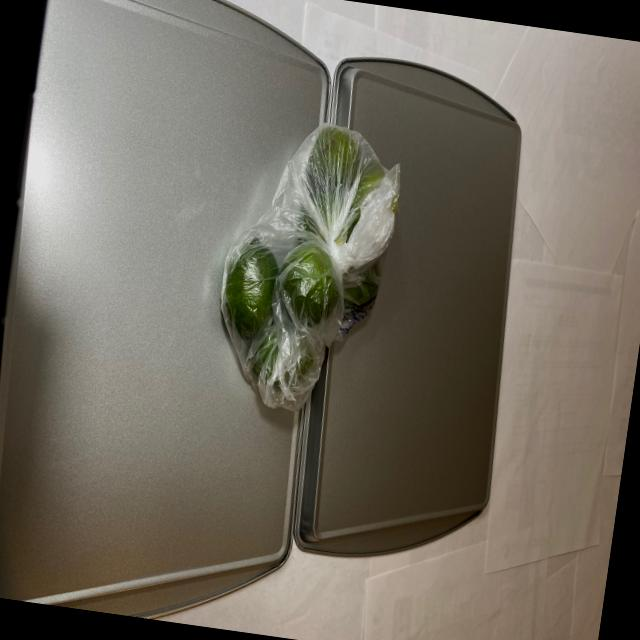lemon: (213, 115, 403, 428)
